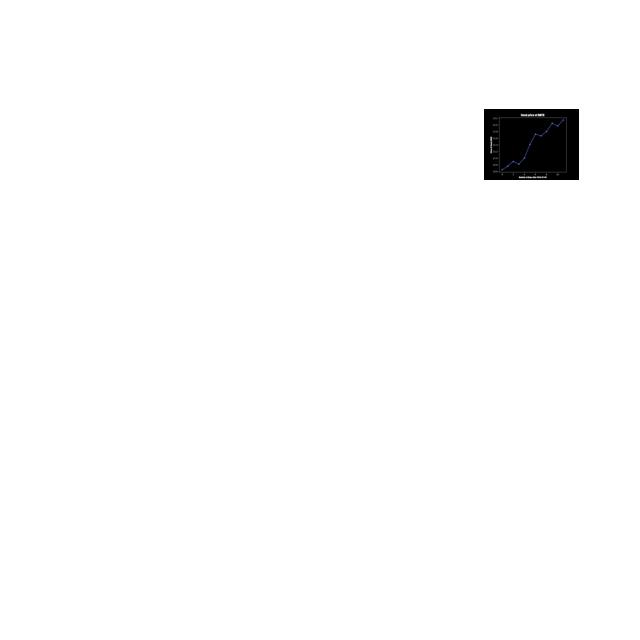Graph: (484, 109, 579, 180)
